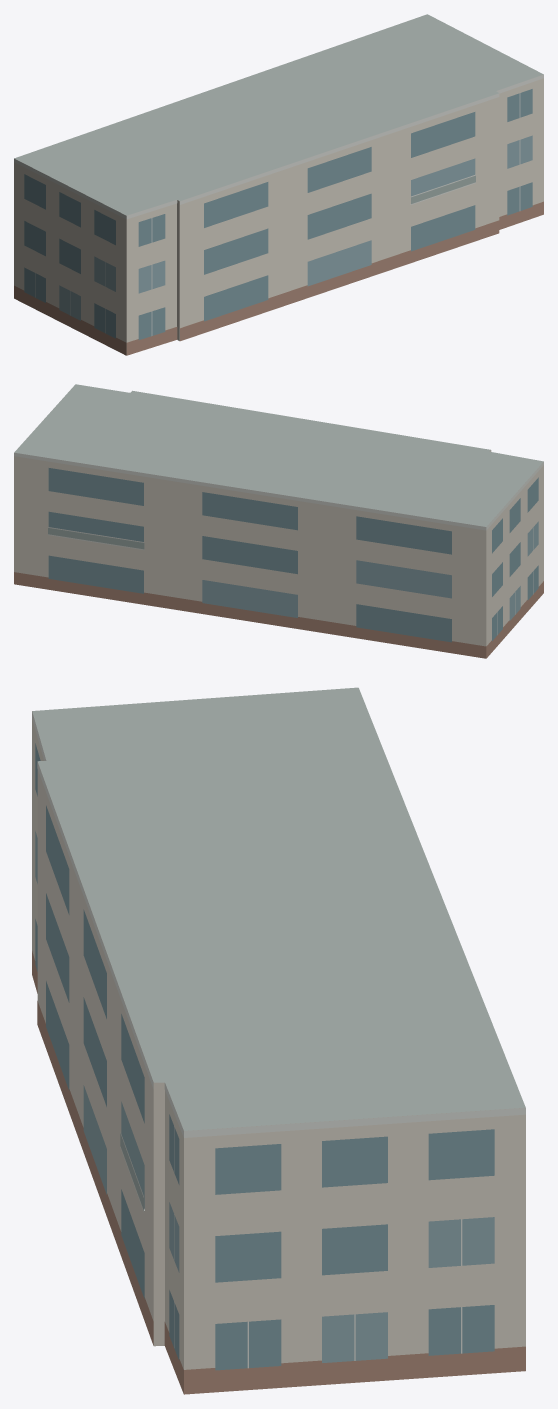
The model's file is survey-upis-32954964.glb.
3 renders of one model, top to bottom at view 1: azimuth 30°, elevation 25°; view 2: azimuth 150°, elevation 25°; view 3: azimuth 270°, elevation 25°, orthographic. The views are drawn at different scales.
Visible parts, largest first — view 1: survey-upis-32954964.tmp; view 2: survey-upis-32954964.tmp; view 3: survey-upis-32954964.tmp.
Boxes of the visible parts, x1,y1,x2,y2 form: survey-upis-32954964.tmp: (14,14,543,355); survey-upis-32954964.tmp: (14,384,543,658); survey-upis-32954964.tmp: (32,687,525,1394).
Bounding box in the file's own units: 33.06 × 9.15 × 15.56.
